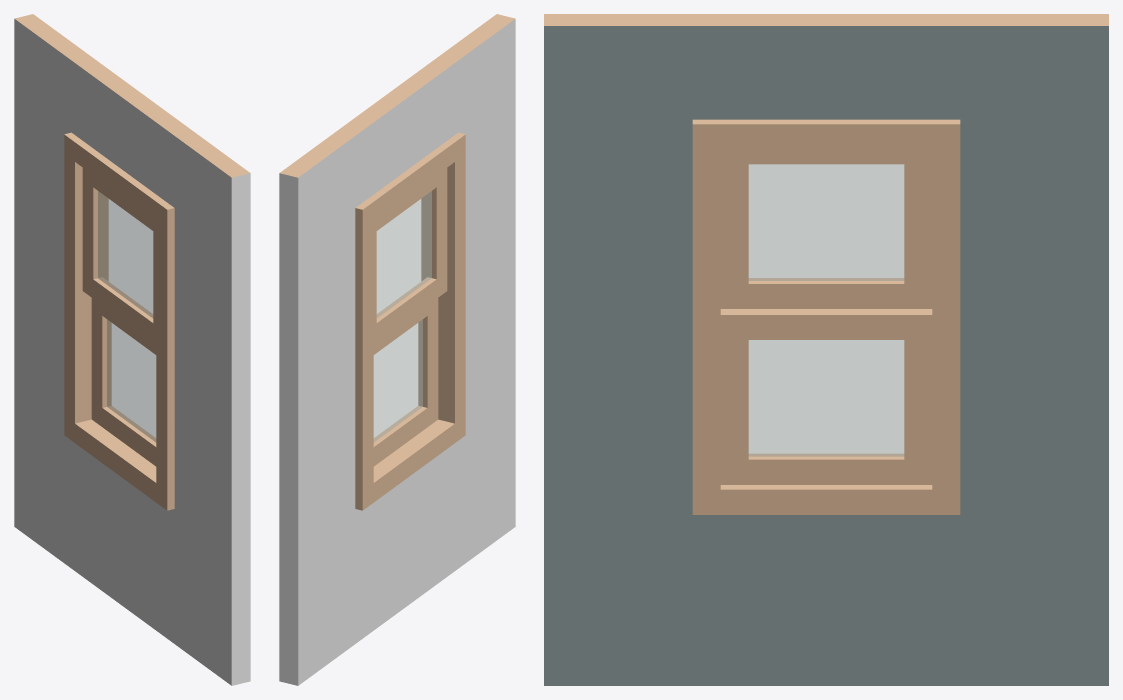
Rendered from wallWindowSlide-col.glb.
3 views of the same model, side by side, from view 1: azimuth 30°, elevation 25°; view 2: azimuth 150°, elevation 25°; view 3: azimuth 270°, elevation 25° (orthographic). The views are drawn at different scales.
Visible parts, largest first — view 1: wallWindowSlide-col; view 2: wallWindowSlide-col; view 3: wallWindowSlide-col.
Boxes of the visible parts, x1,y1,x2,y2 form: wallWindowSlide-col: [14, 14, 250, 685]; wallWindowSlide-col: [279, 14, 515, 685]; wallWindowSlide-col: [544, 14, 1108, 685].
Size of the model in its own units: 0.0891 by 1.29 by 1.
